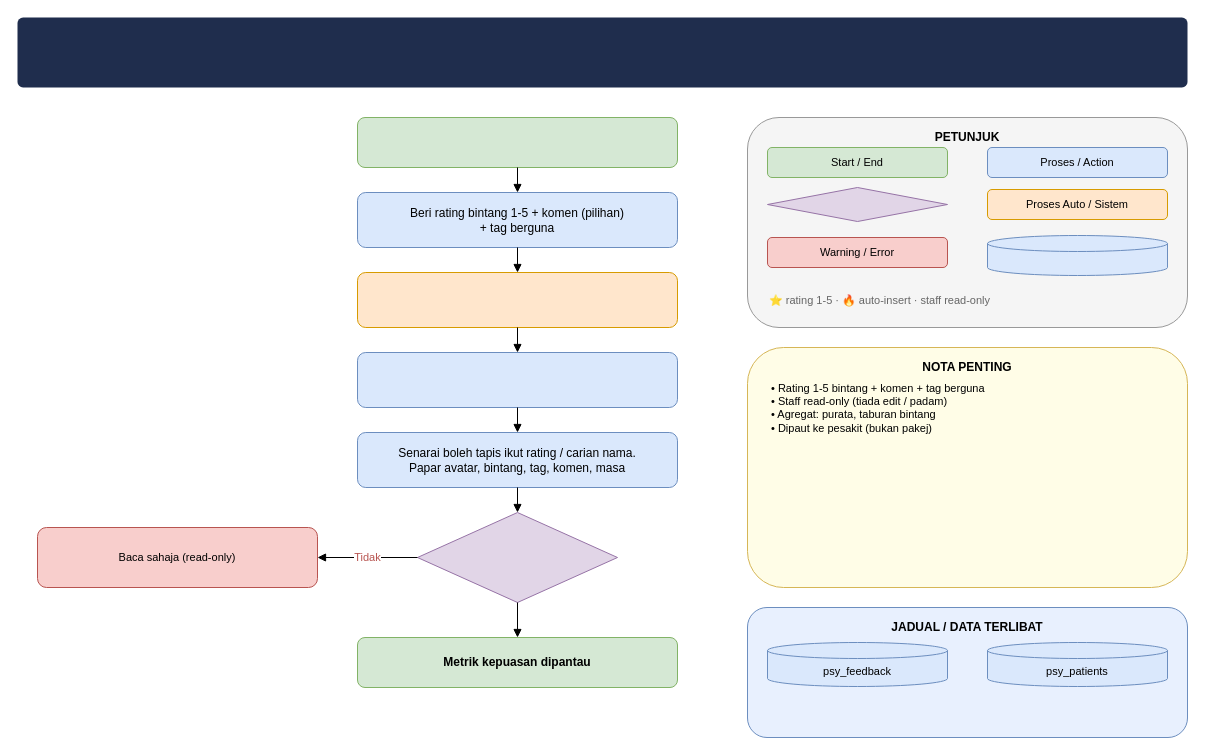
The diagram is 1205 pixels wide and 755 high, and some of its shapes have lost their labels. Each missing label, with the centre of its shape:
"Database" goes at point 1077,255.
"FLOW: MAKLUM BALAS (FEEDBACK) Pesakit beri rating → staff lihat metrik agregat" goes at point 602,52.
"Keputusan / Decision" goes at point 857,204.
"Staff buka feedback.html: KPI (purata rating, jumlah, % 5-bintang)" goes at point 517,380.
"Staff edit / padam?" goes at point 517,557.
"START Pesakit buka feedback.html" goes at point 517,142.
"🔥 INSERT psy_feedback (patient_name, rating, comment, helpful[])" goes at point 517,300.
